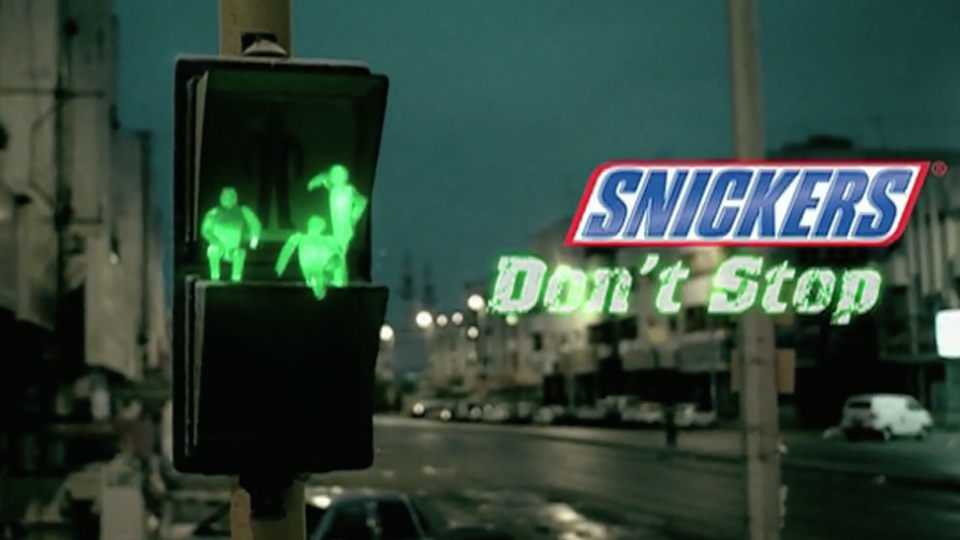snickers: (580, 170, 916, 236)
